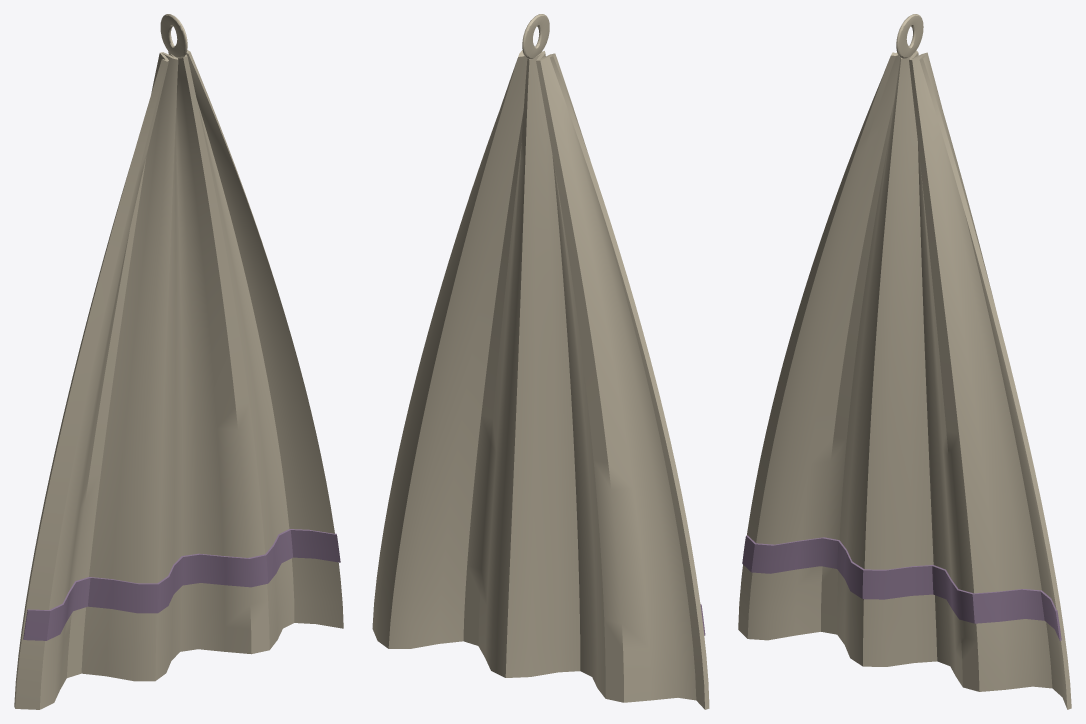
File: towel-on-hook-8a0a6d490a8b.glb
3 renders of one model, left to right at view 1: azimuth 30°, elevation 25°; view 2: azimuth 150°, elevation 25°; view 3: azimuth 330°, elevation 25°, orthographic.
Parts seen in each view (by area): view 1: cloth-cream, cloth-lilac; view 2: cloth-cream; view 3: cloth-cream, cloth-lilac.
Part boxes in pixels (x1,y1,x2,y2): cloth-cream: (14, 14, 343, 709); cloth-lilac: (23, 529, 340, 640); cloth-cream: (372, 14, 709, 709); cloth-cream: (738, 14, 1071, 709); cloth-lilac: (742, 535, 1061, 640).
Size of the model in its own units: 0.32 by 0.6 by 0.05.
